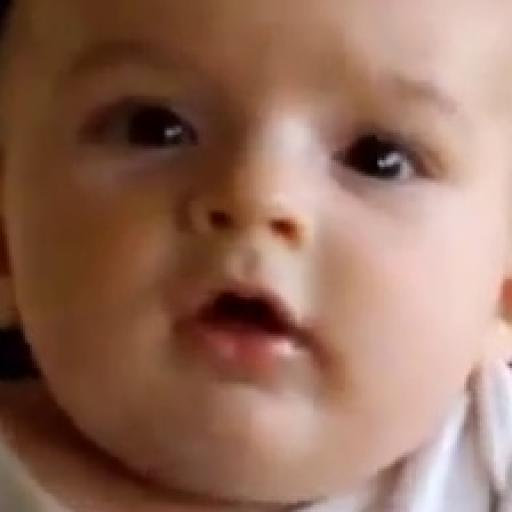Autism: (16, 2, 512, 496)
